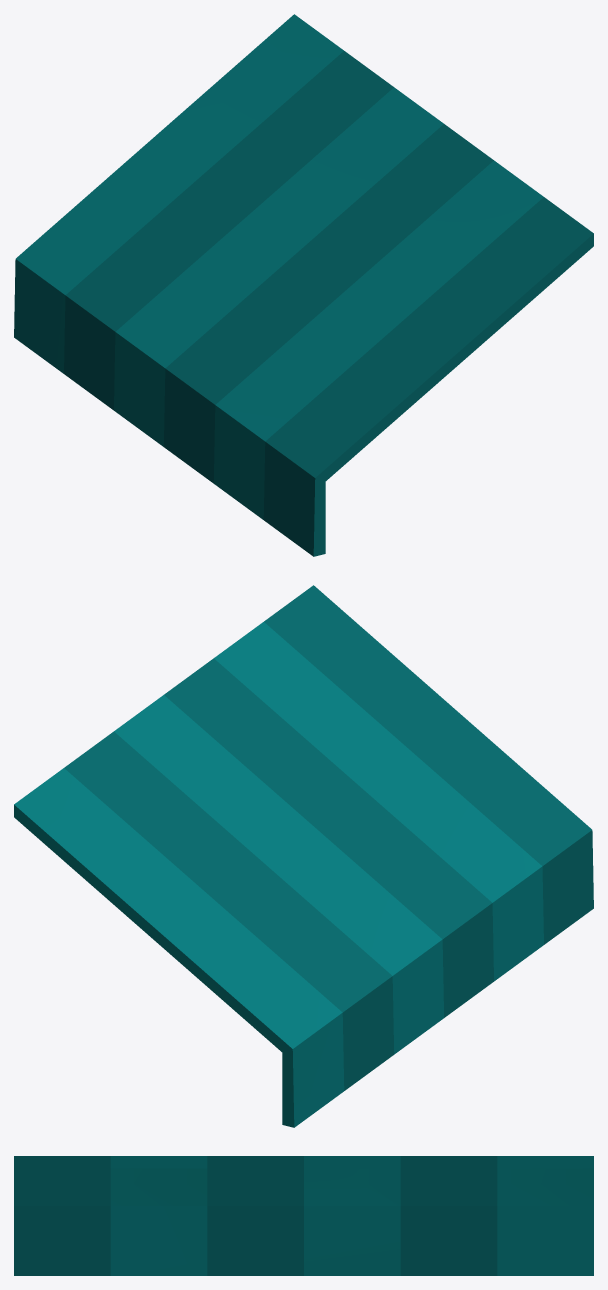
Rendered from Awning_2_G.glb.
3 views of the same model, one above another, from view 1: azimuth 30°, elevation 25°; view 2: azimuth 150°, elevation 25°; view 3: azimuth 270°, elevation 25° (orthographic). The views are drawn at different scales.
Parts seen in each view (by area): view 1: Awning_2_G; view 2: Awning_2_G; view 3: Awning_2_G.
Part boxes in pixels (<box>): Awning_2_G: <box>14,14,593,556</box>; Awning_2_G: <box>14,585,593,1127</box>; Awning_2_G: <box>14,1156,593,1275</box>.
Size of the model in its own units: 1.11 by 0.9645 by 2.05.
2 materials, 2 textured.
